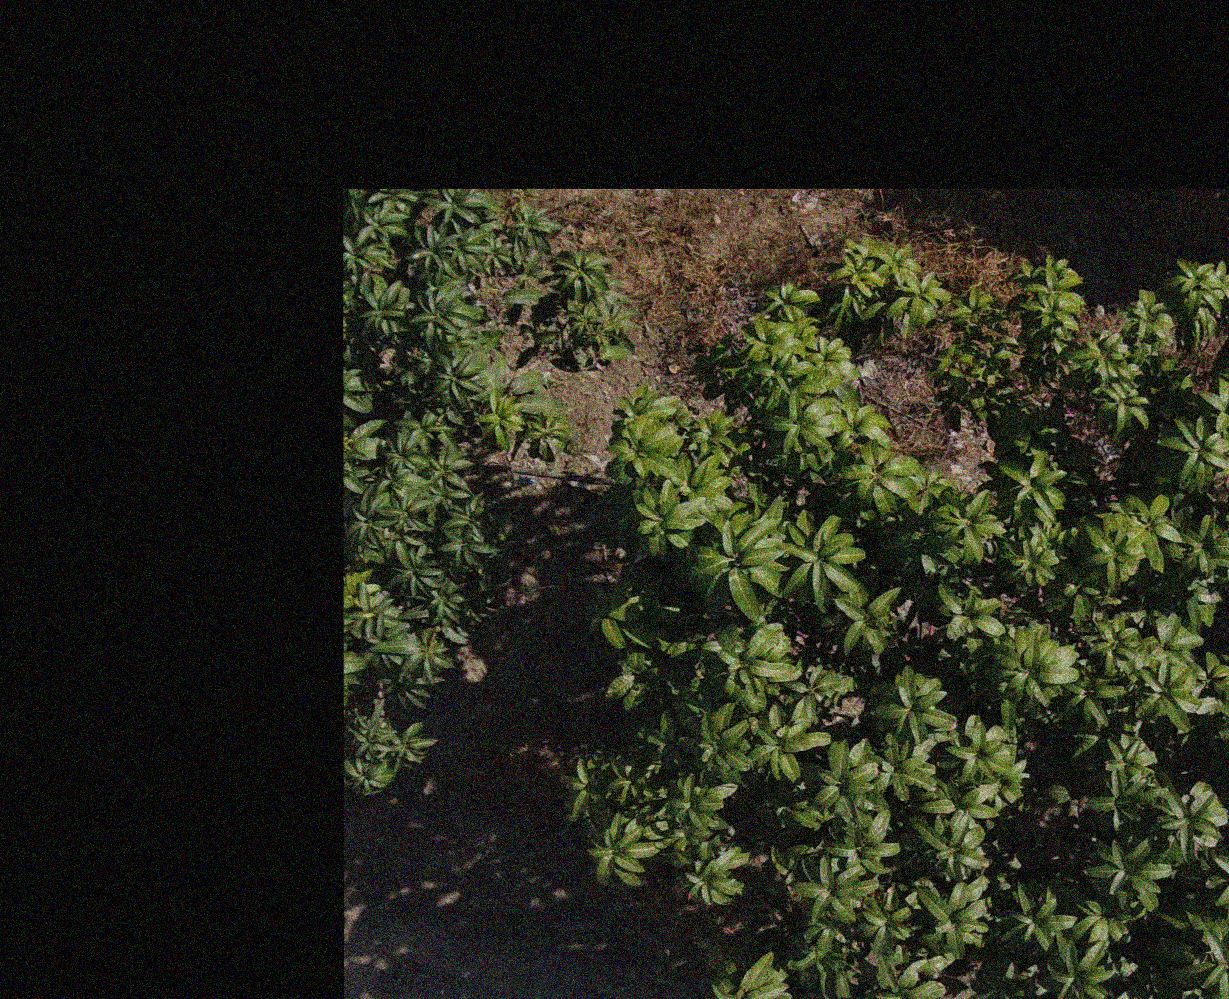flowers: (416, 207, 437, 225), (343, 428, 352, 452)
